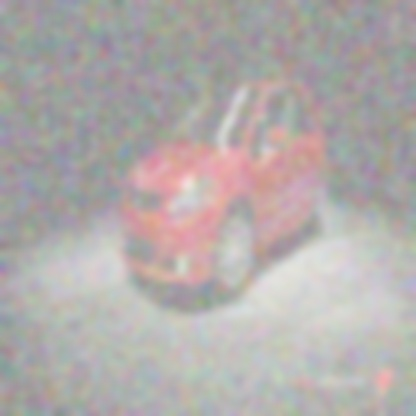Vehicle: (116, 65, 336, 305)
